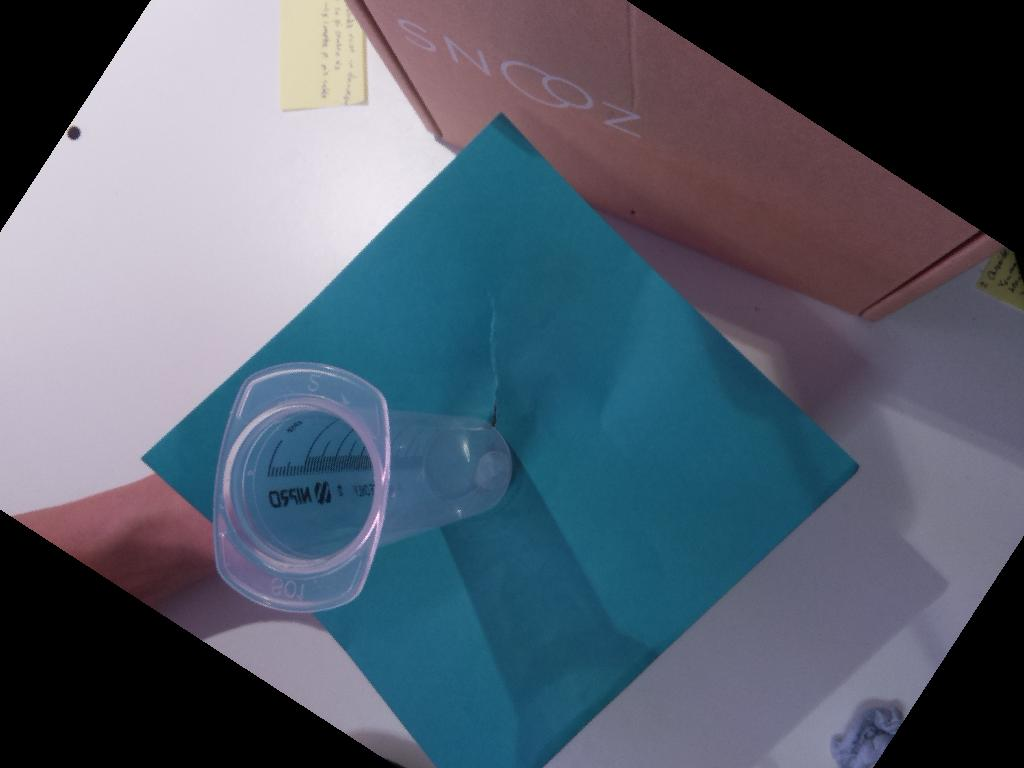clean: (211, 360, 392, 612)
